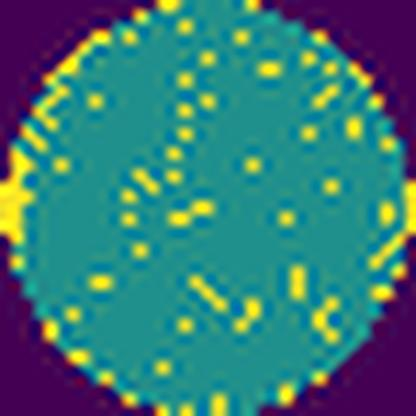Edge-Loc: (364, 177, 416, 271), (0, 146, 40, 242)
